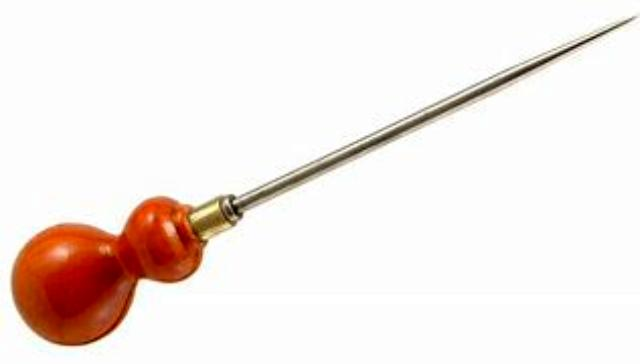ice pick: (14, 10, 634, 354)
